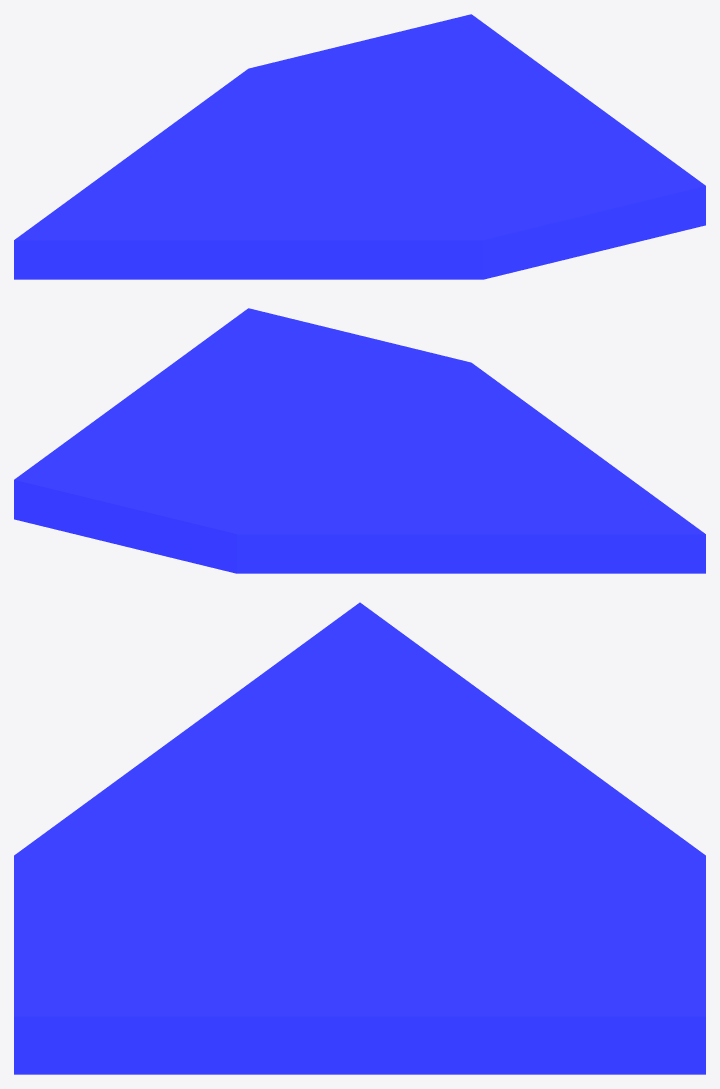
Rendered from buttonMusic.glb.
3 renders of one model, top to bottom at view 1: azimuth 30°, elevation 25°; view 2: azimuth 150°, elevation 25°; view 3: azimuth 270°, elevation 25°, orthographic. The views are drawn at different scales.
Parts seen in each view (by area): view 1: Circle.001; view 2: Circle.001; view 3: Circle.001.
Boxes of the visible parts, x1,y1,x2,y2 form: Circle.001: (14,14,705,279); Circle.001: (14,308,705,573); Circle.001: (14,602,705,1074).
Bounding box in the file's own units: 0.9691 × 0.0638 × 0.6847.
